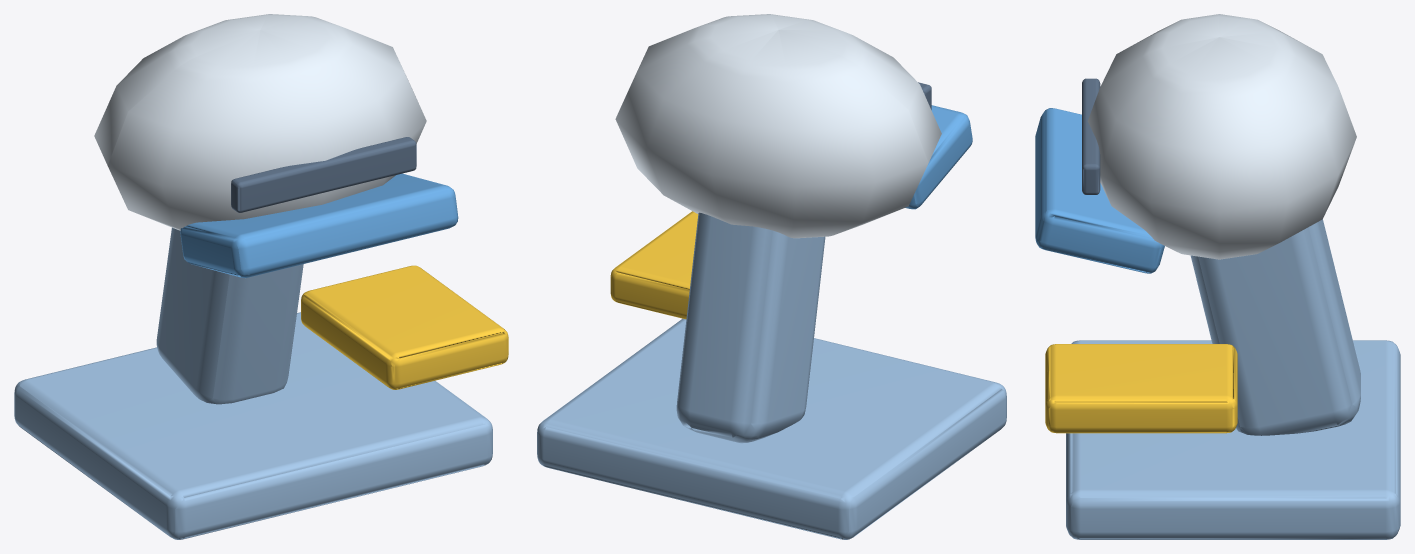
Rendered from pcv_access_card_reader_pedestal.glb.
The picture shows the model from 3 angles, left to right: view 1: azimuth 30°, elevation 25°; view 2: azimuth 150°, elevation 25°; view 3: azimuth 270°, elevation 25°; orthographic projection. The views are drawn at different scales.
Visible parts, largest first — view 1: pcv_access_card_reader_pedestal_MOBILE_JOINED; view 2: pcv_access_card_reader_pedestal_MOBILE_JOINED; view 3: pcv_access_card_reader_pedestal_MOBILE_JOINED.
Boxes of the visible parts, <box> form: pcv_access_card_reader_pedestal_MOBILE_JOINED: <box>14,14,508,539</box>; pcv_access_card_reader_pedestal_MOBILE_JOINED: <box>537,14,1006,539</box>; pcv_access_card_reader_pedestal_MOBILE_JOINED: <box>1035,14,1400,539</box>.
Bounding box in the file's own units: 0.84 × 1.03 × 0.7963.
